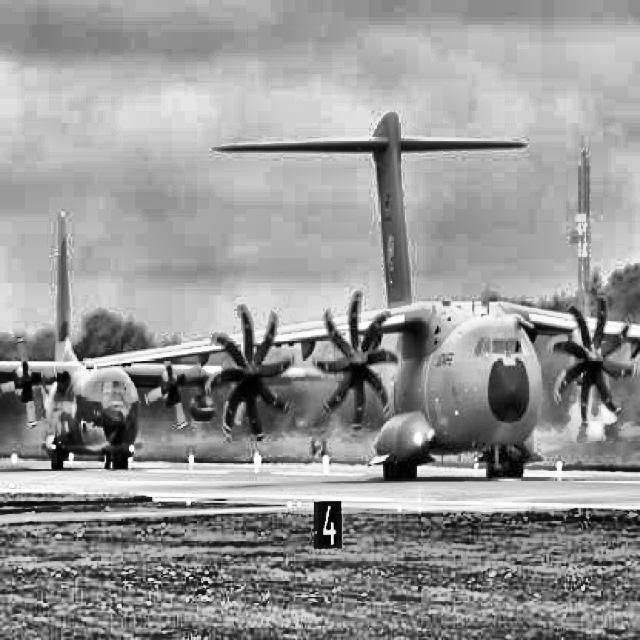A400M: (80, 112, 640, 479)
C130: (0, 212, 337, 470)
